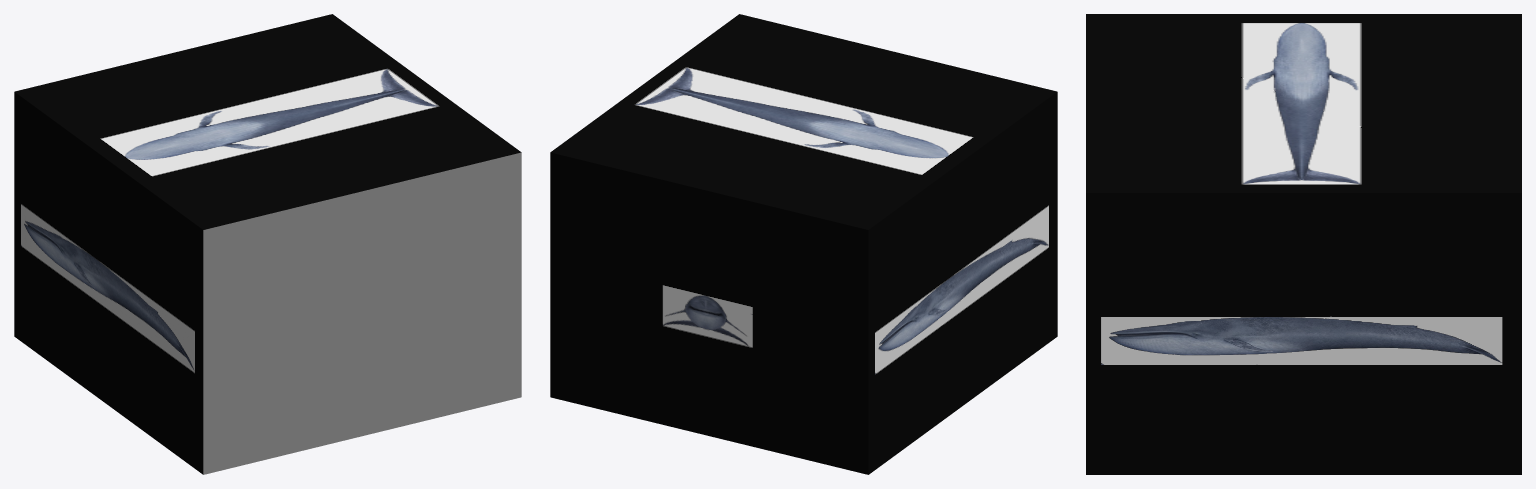
Rendered from Sclae Test 01.FBX.
3 renders of one model, left to right at view 1: azimuth 30°, elevation 25°; view 2: azimuth 150°, elevation 25°; view 3: azimuth 270°, elevation 25°, orthographic. The views are drawn at different scales.
Visible parts, largest first — view 1: Reference Images; view 2: Reference Images; view 3: Reference Images.
Boxes of the visible parts, x1,y1,x2,y2 form: Reference Images: (14, 14, 521, 474); Reference Images: (550, 14, 1057, 474); Reference Images: (1086, 14, 1521, 474).
Size of the model in its own units: 68 by 50 by 70.
5 materials, 4 textured.
